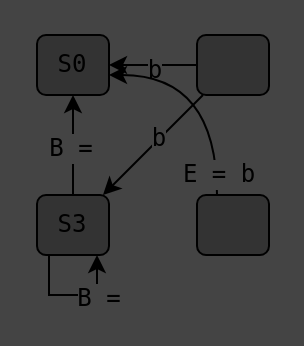
This 304x346 diagram has some shape labels left out. The centre of each missing label's shape, as x and y in pixels:
"S1" belongs at point (232, 224).
"S2" belongs at point (232, 64).
